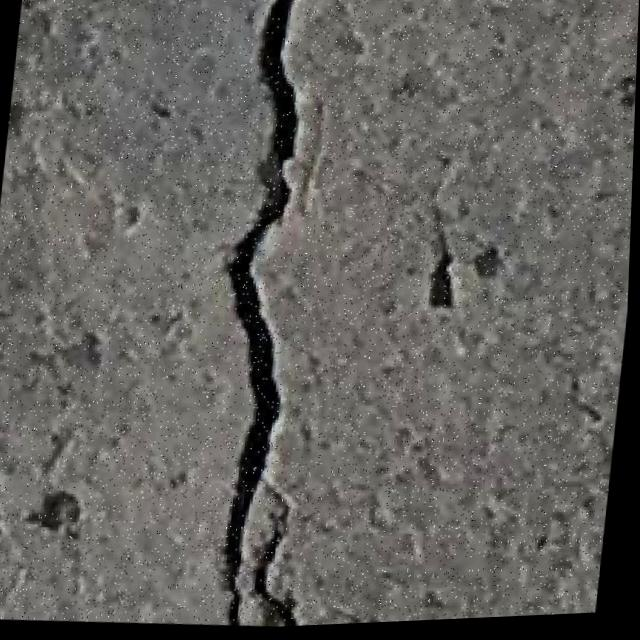Crack: (182, 0, 393, 633)
